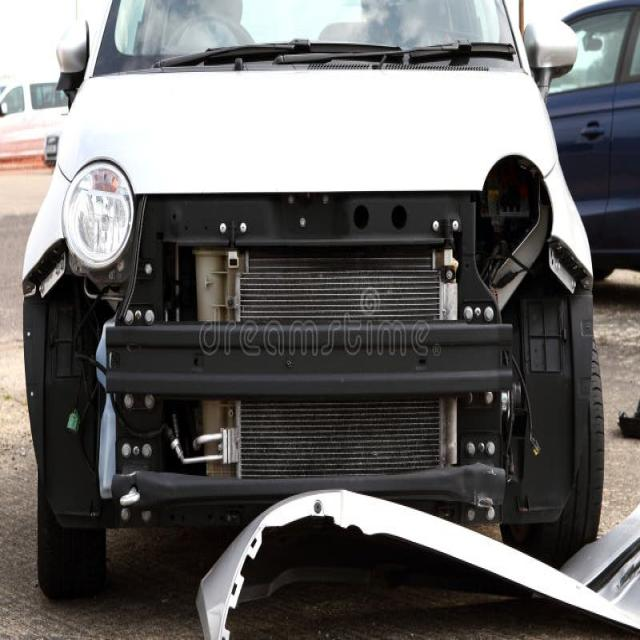missing: (22, 154, 593, 527)
